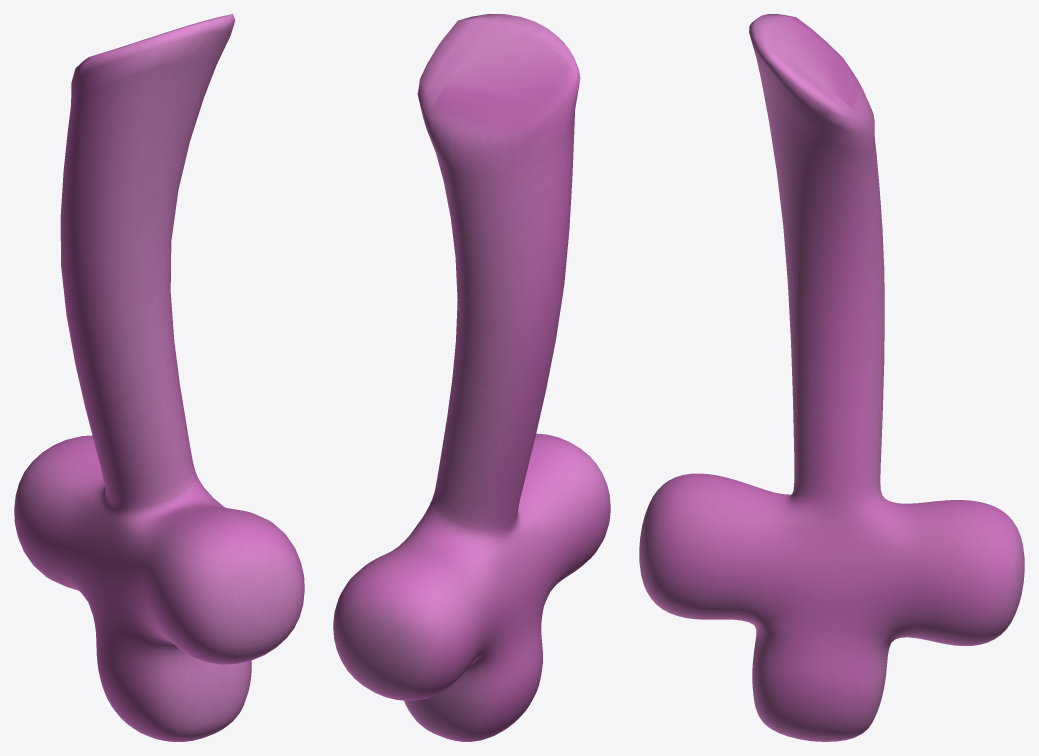
Rendered from pataIzq.obj.
The picture shows the model from 3 angles, left to right: view 1: azimuth 30°, elevation 25°; view 2: azimuth 150°, elevation 25°; view 3: azimuth 270°, elevation 25°; orthographic projection. The views are drawn at different scales.
Visible parts, largest first — view 1: courage.004; view 2: courage.004; view 3: courage.004.
Part boxes in pixels (x1,y1,x2,y2): courage.004: (14,14,304,741); courage.004: (333,14,610,741); courage.004: (639,14,1024,741).
Bounding box in the file's own units: 0.2778 × 1.16 × 0.5802.
